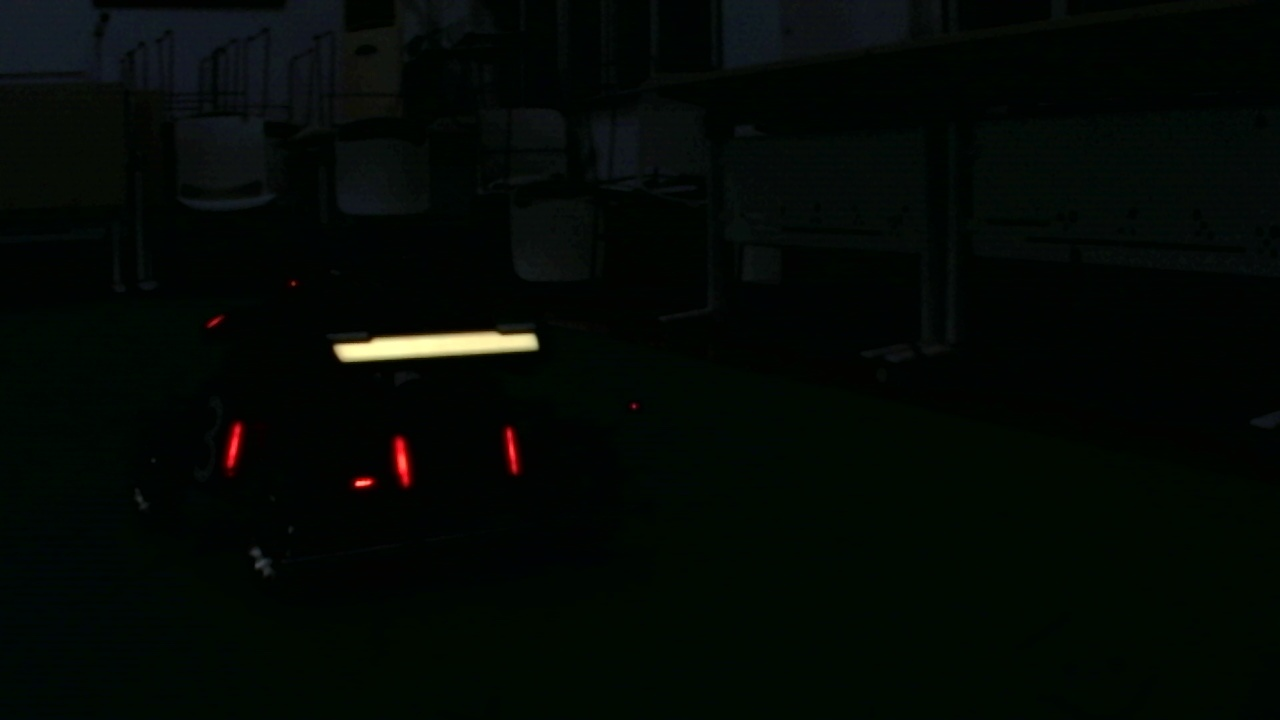lamp: (217, 416, 248, 475), (391, 427, 412, 493), (502, 420, 523, 481)
notpair1: (219, 419, 411, 490)
pair1: (392, 425, 522, 488)
